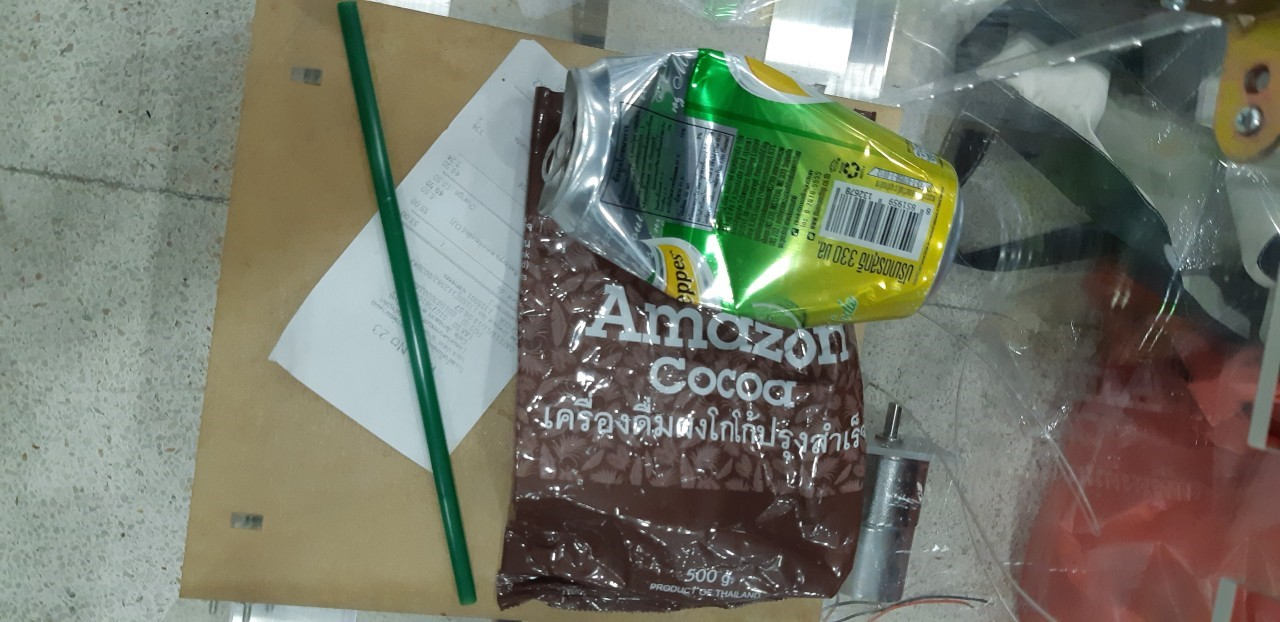AlCan: (539, 48, 965, 323)
Others: (270, 31, 546, 474), (499, 307, 872, 604), (338, 2, 477, 609)
